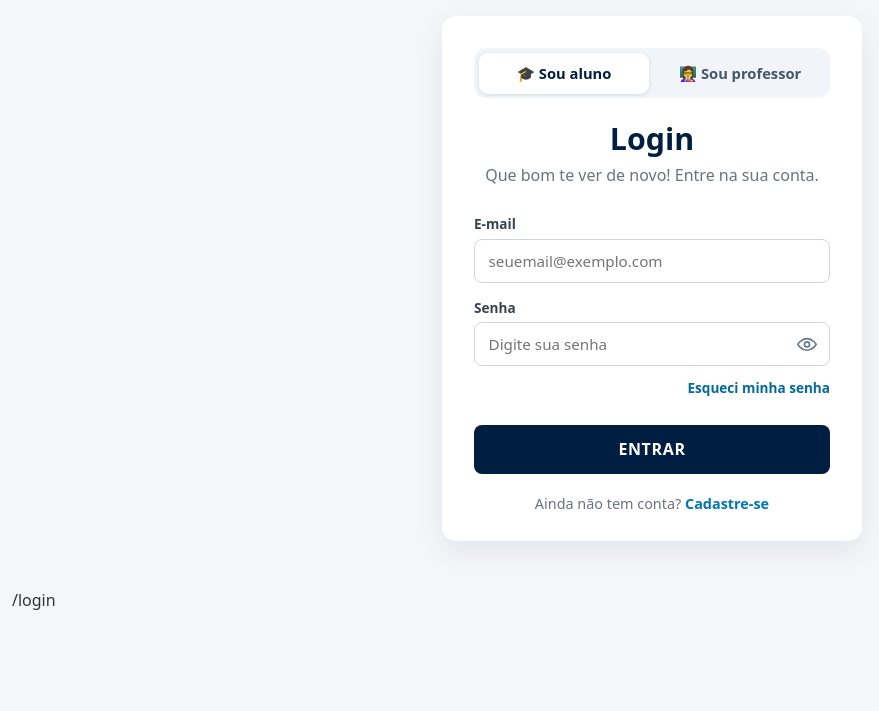
Test: conta bloqueada mostra a mensagem do servidor e não entra
In the field labelled "E-mail": (652, 261) [474,239,830,283], type "maria@teste.com"
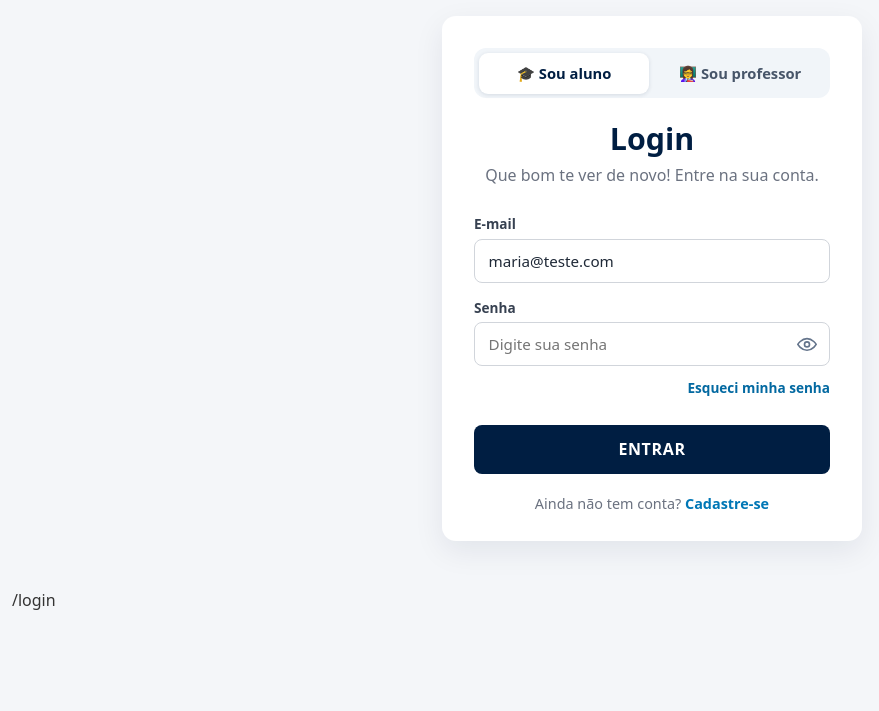
In the password field labelled "Senha": (652, 344) [474,322,830,366], type "senha123"
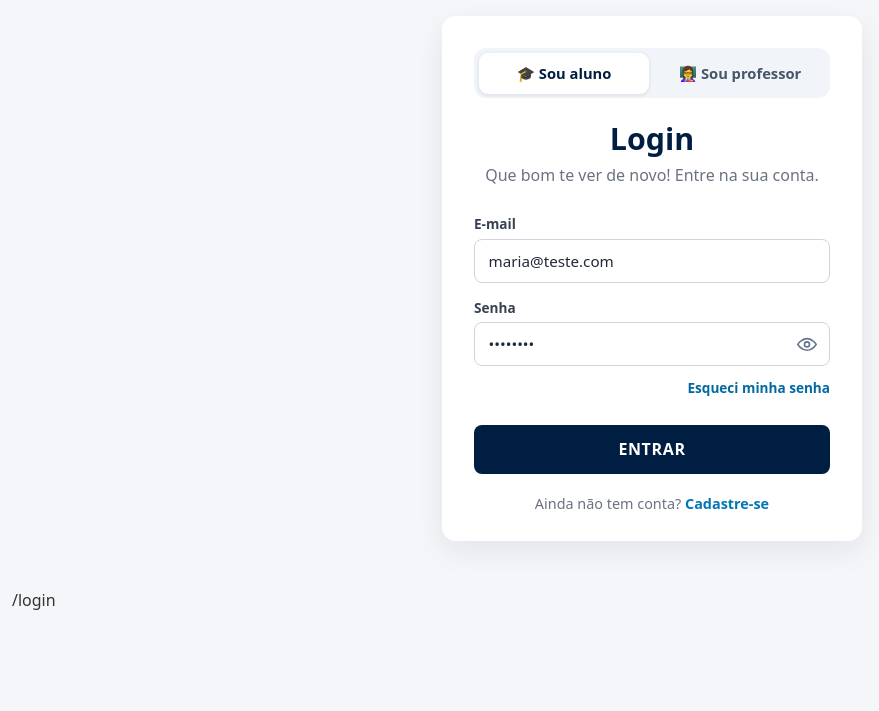
Click the button "ENTRAR": (652, 449) [474,425,830,474]
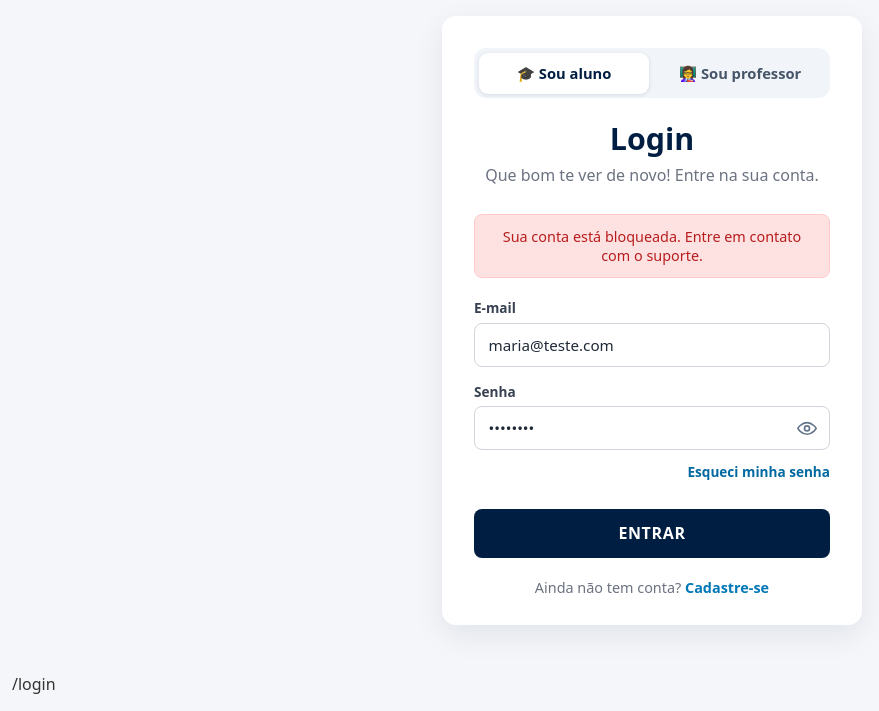
Check: the text with test id "endereco" reads "/login", box [12,673,56,695]
Check: the text "Sua conta está bloqueada. Entre em contato com o suporte." is shown, box [474,214,830,278]
